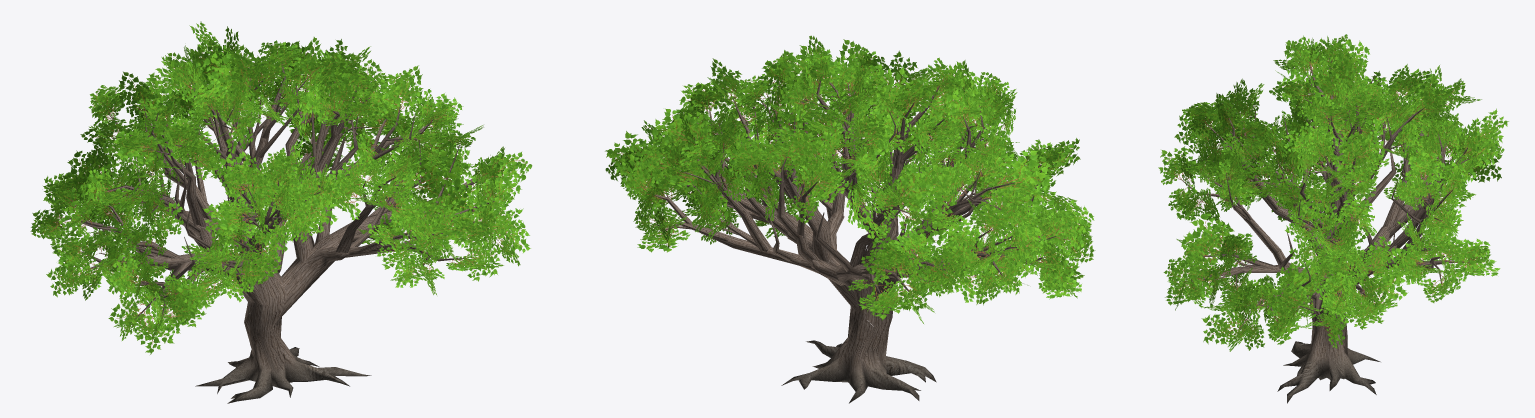
File: Triadica_Summer_LOD2.glb
The picture shows the model from 3 angles, left to right: view 1: azimuth 30°, elevation 25°; view 2: azimuth 150°, elevation 25°; view 3: azimuth 270°, elevation 25°; orthographic projection. The views are drawn at different scales.
Visible parts, largest first — view 1: Triadica_Summer_Shoots_LOD2, Triadica_Wood_LOD2; view 2: Triadica_Summer_Shoots_LOD2, Triadica_Wood_LOD2; view 3: Triadica_Summer_Shoots_LOD2, Triadica_Wood_LOD2.
Part boxes in pixels (left/top/right/bottom): Triadica_Summer_Shoots_LOD2: left=30, top=21, right=532, bottom=354; Triadica_Wood_LOD2: left=56, top=64, right=498, bottom=403; Triadica_Summer_Shoots_LOD2: left=605, top=35, right=1095, bottom=323; Triadica_Wood_LOD2: left=654, top=75, right=1066, bottom=403; Triadica_Summer_Shoots_LOD2: left=1158, top=34, right=1508, bottom=351; Triadica_Wood_LOD2: left=1180, top=48, right=1473, bottom=403.
Size of the model in its own units: 17.09 by 11.62 by 12.55.
2 materials, 2 textured.
